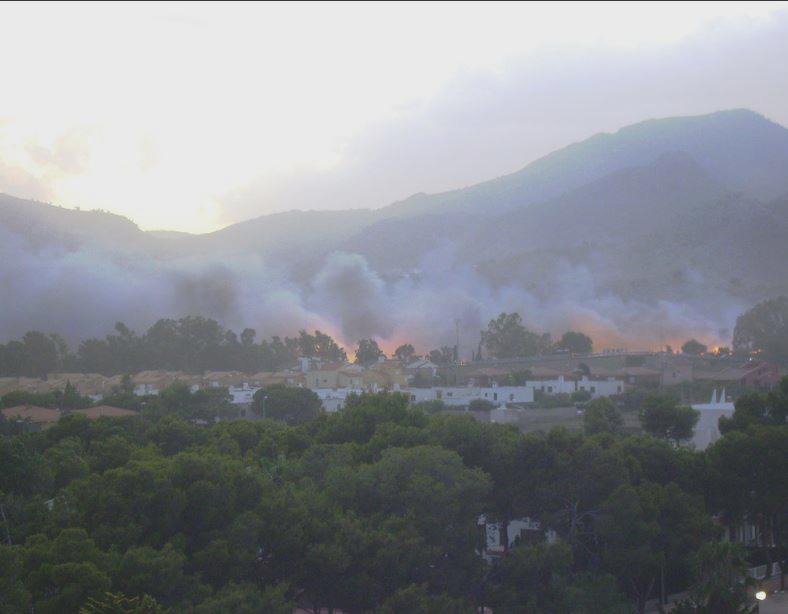fire: (341, 347, 359, 363), (703, 342, 725, 354)
